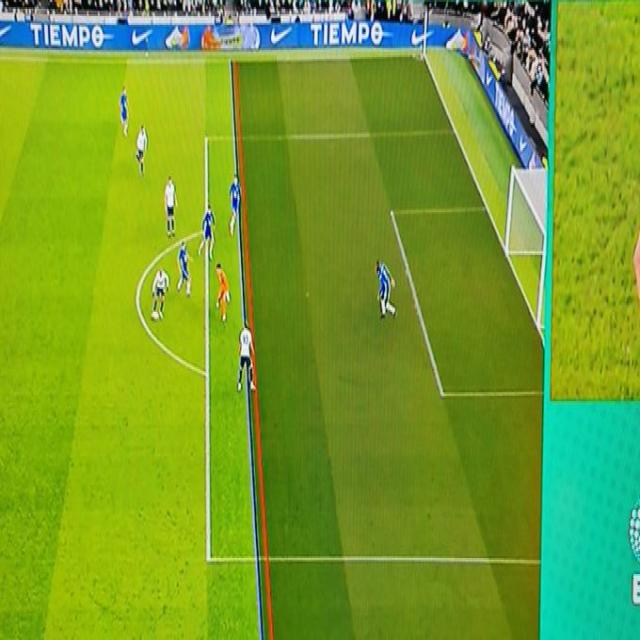offside: (227, 179, 263, 409)
